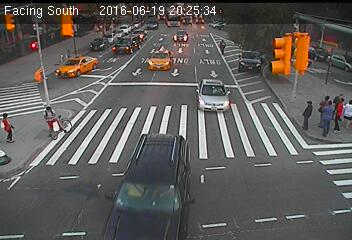neg: (39, 102, 69, 142), (215, 35, 232, 58)
pos: (295, 98, 320, 131), (318, 101, 342, 133), (330, 97, 351, 131), (341, 101, 351, 128), (321, 90, 333, 107), (336, 91, 346, 104)
